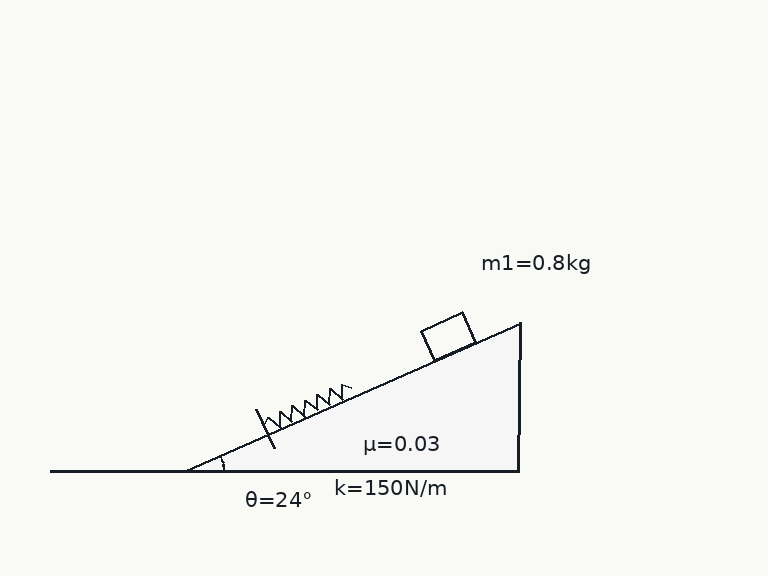block: (419, 310, 477, 362)
ramp: (182, 320, 521, 473)
spring: (262, 381, 353, 428)
